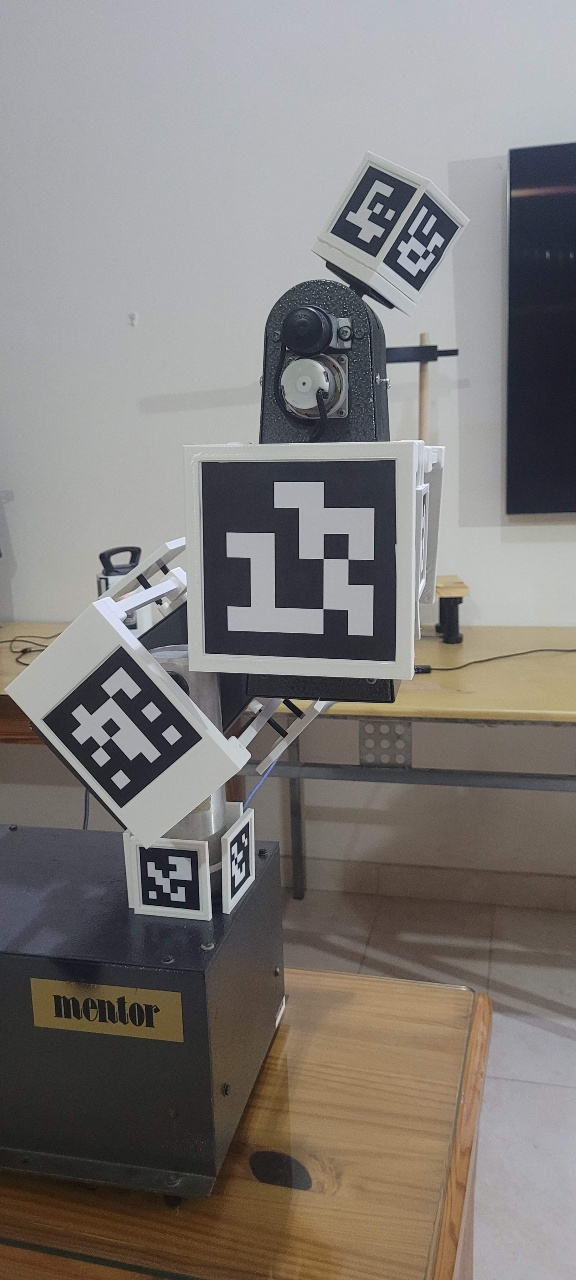Robot: (37, 412, 549, 1091)
